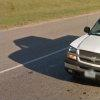Car: (62, 23, 100, 83)
